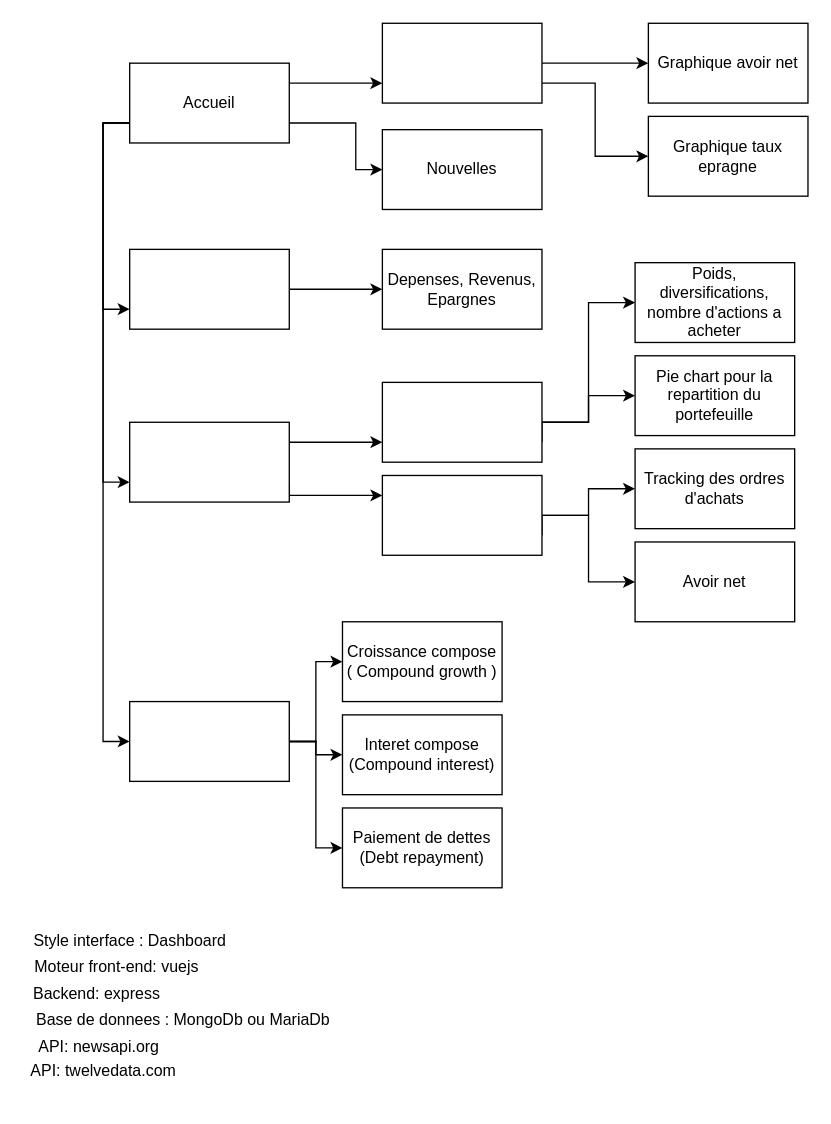
The diagram is 831 pixels wide and 1124 high, and some of its shapes have lost their labels. Here are the shapes that lost their labels. From the top down, the centre of each, then its label:
[461,62]: Graphiques
[208,288]: Budget
[461,421]: Portefeuille d'actions
[208,461]: Investissement
[461,514]: Tracking
[208,740]: Calculatrices
